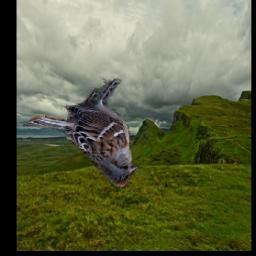Sparrow: (23, 77, 139, 190)
